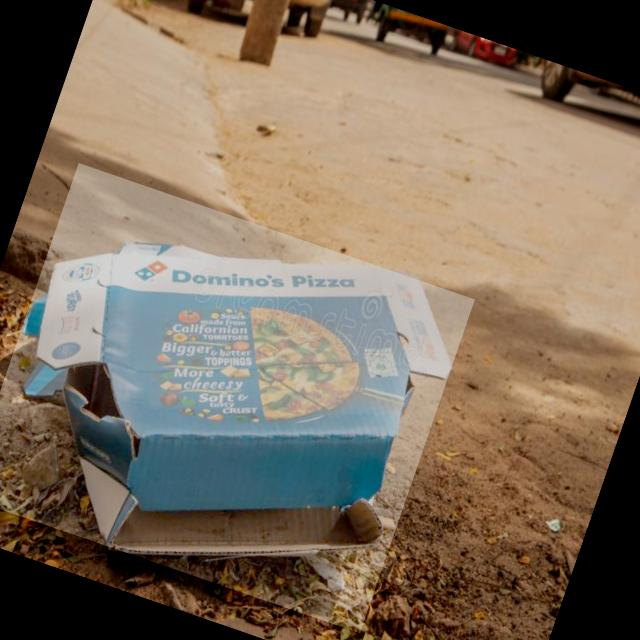Food Carton: (0, 162, 474, 632)
